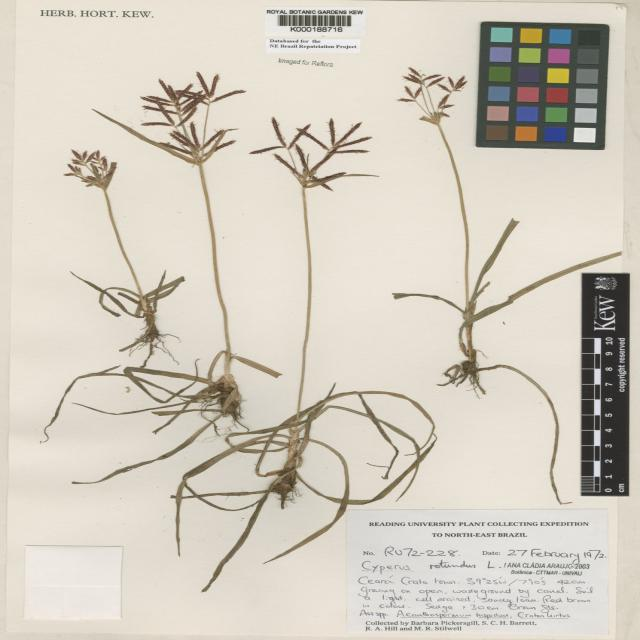cyperus: (113, 69, 254, 170), (252, 110, 387, 198), (379, 58, 472, 133), (56, 141, 135, 195)
